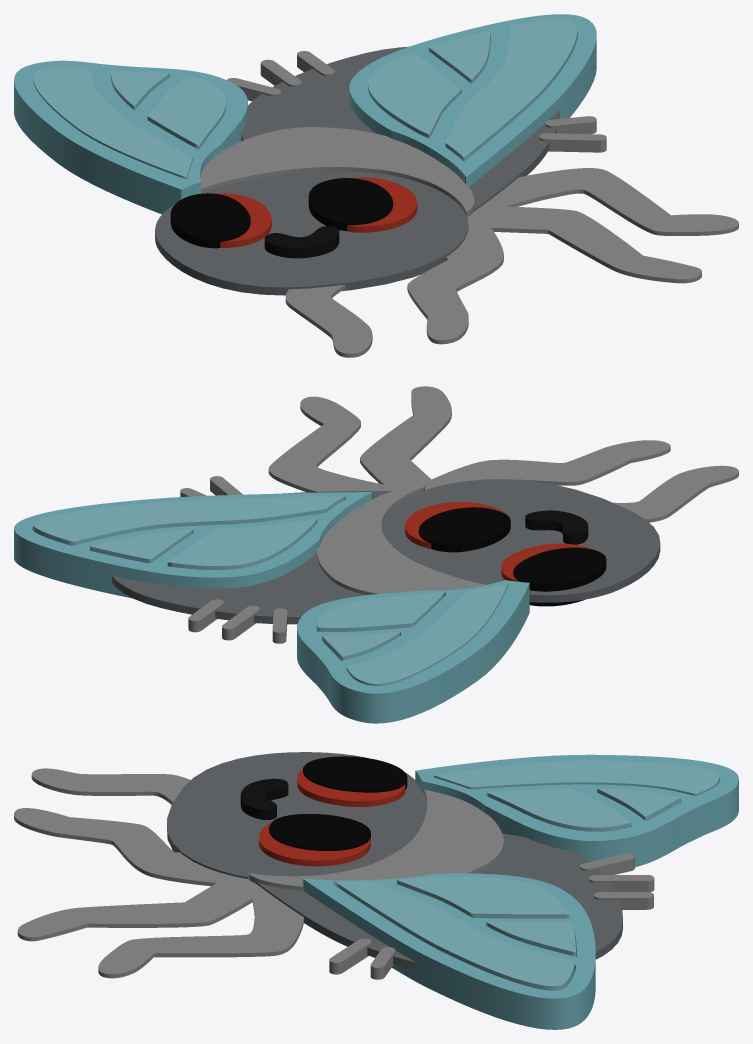
File: emoji_u1fab0.glb
3 renders of one model, top to bottom at view 1: azimuth 30°, elevation 25°; view 2: azimuth 150°, elevation 25°; view 3: azimuth 270°, elevation 25°, orthographic. The views are drawn at different scales.
Visible parts, largest first — view 1: emoji_u1fab0; view 2: emoji_u1fab0; view 3: emoji_u1fab0.
Part boxes in pixels (x1,y1,x2,y2): emoji_u1fab0: (14,14,738,357); emoji_u1fab0: (14,386,738,723); emoji_u1fab0: (14,752,738,1029).
Bounding box in the file's own units: 0.0283 × 0.002 × 0.0336.
